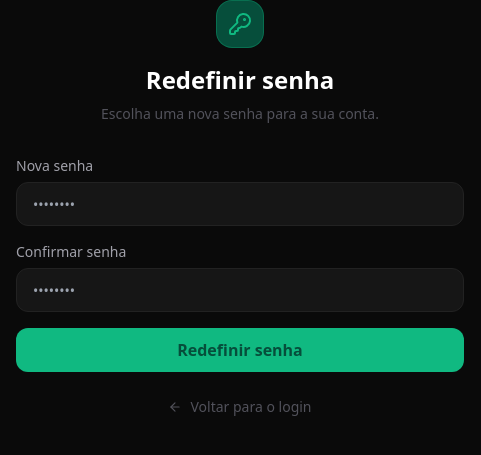
Test case: ResetPasswordPage › deve exibir erro quando senhas não coincidem
Type "NovaSenha@123" into the password field labelled "Nova senha" at (240,204), box [16, 182, 464, 226]
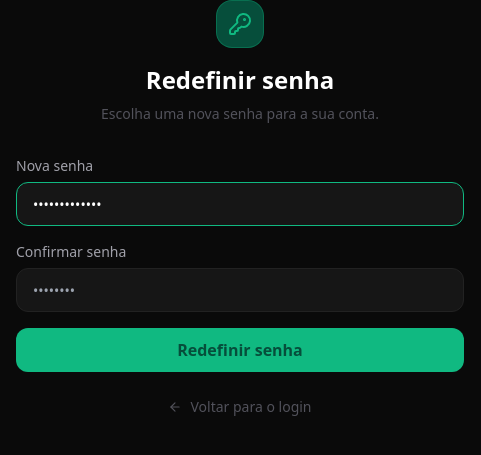
Type "Diferente@123" into the password field labelled "Confirmar senha" at (240,290), box [16, 268, 464, 312]
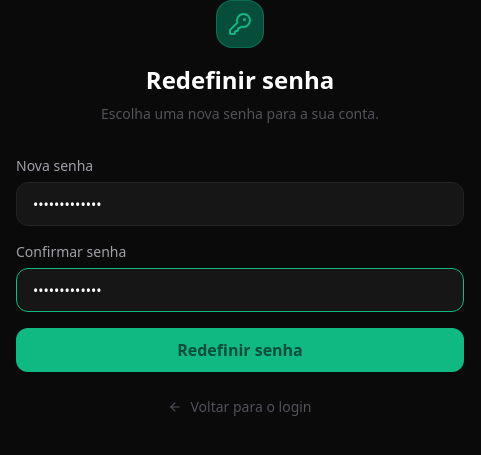
Click the button "Redefinir senha" at (240,350), box [16, 328, 464, 372]
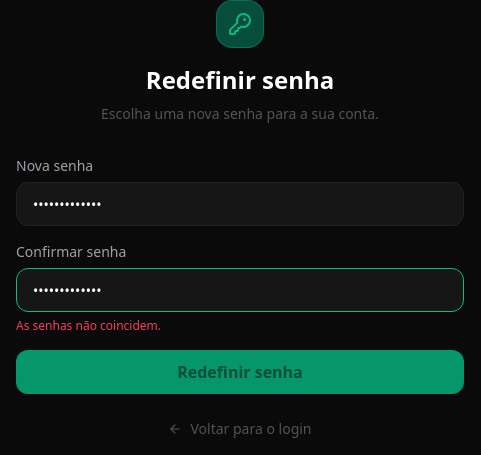
Expected: the text "As senhas não coincidem." is shown, [16, 317, 161, 334]
